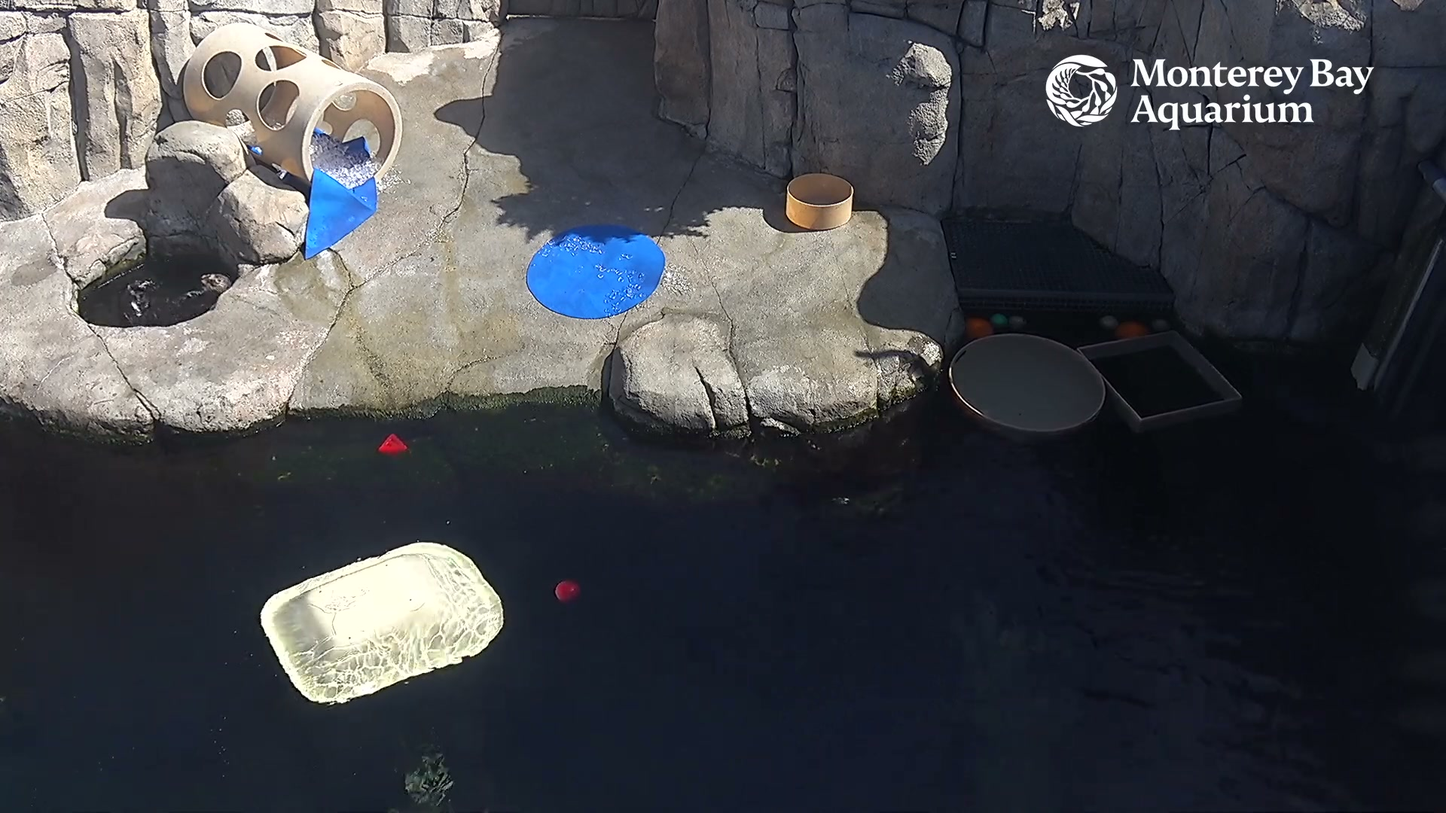Southern Sea Otter: (116, 251, 238, 328)
